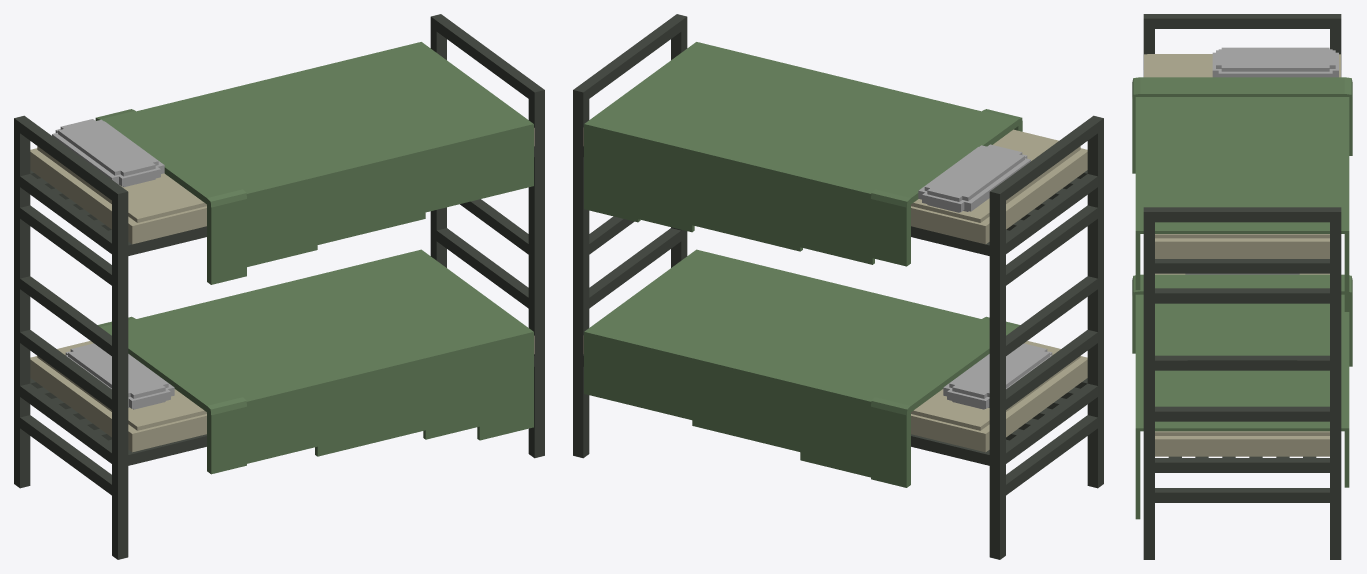
The model's file is militarBed.fbx.
3 views of the same model, side by side, from view 1: azimuth 30°, elevation 25°; view 2: azimuth 150°, elevation 25°; view 3: azimuth 270°, elevation 25° (orthographic). The views are drawn at different scales.
Visible parts, largest first — view 1: militaryBed_sheet1, militaryBed_sheet2, militaryBed_iron_duo, militaryBed_bed2, militaryBed_bed1, militaryBed_pillow2, militaryBed_pillow1; view 2: militaryBed_sheet2, militaryBed_sheet1, militaryBed_iron_duo, militaryBed_bed2, militaryBed_bed1, militaryBed_pillow2, militaryBed_pillow1; view 3: militaryBed_sheet2, militaryBed_iron_duo, militaryBed_sheet1, militaryBed_bed2, militaryBed_bed1, militaryBed_pillow2.
Part boxes in pixels (bbox=[...]): militaryBed_sheet1: bbox=[97, 249, 533, 474]; militaryBed_sheet2: bbox=[95, 42, 533, 284]; militaryBed_iron_duo: bbox=[14, 14, 544, 559]; militaryBed_bed2: bbox=[30, 128, 534, 244]; militaryBed_bed1: bbox=[30, 335, 534, 452]; militaryBed_pillow2: bbox=[52, 119, 164, 187]; militaryBed_pillow1: bbox=[65, 343, 174, 409]; militaryBed_sheet2: bbox=[584, 42, 1022, 266]; militaryBed_sheet1: bbox=[584, 249, 1020, 487]; militaryBed_iron_duo: bbox=[573, 14, 1103, 559]; militaryBed_bed2: bbox=[583, 128, 1087, 244]; militaryBed_bed1: bbox=[583, 335, 1087, 452]; militaryBed_pillow2: bbox=[918, 144, 1030, 212]; militaryBed_pillow1: bbox=[943, 343, 1052, 409]; militaryBed_sheet2: bbox=[1132, 77, 1352, 311]; militaryBed_iron_duo: bbox=[1143, 14, 1341, 559]; militaryBed_sheet1: bbox=[1132, 274, 1352, 519]; militaryBed_bed2: bbox=[1144, 54, 1340, 258]; militaryBed_bed1: bbox=[1155, 273, 1329, 456]; militaryBed_pillow2: bbox=[1212, 47, 1338, 77].
Size of the model in its own units: 207 by 170 by 97.58.
